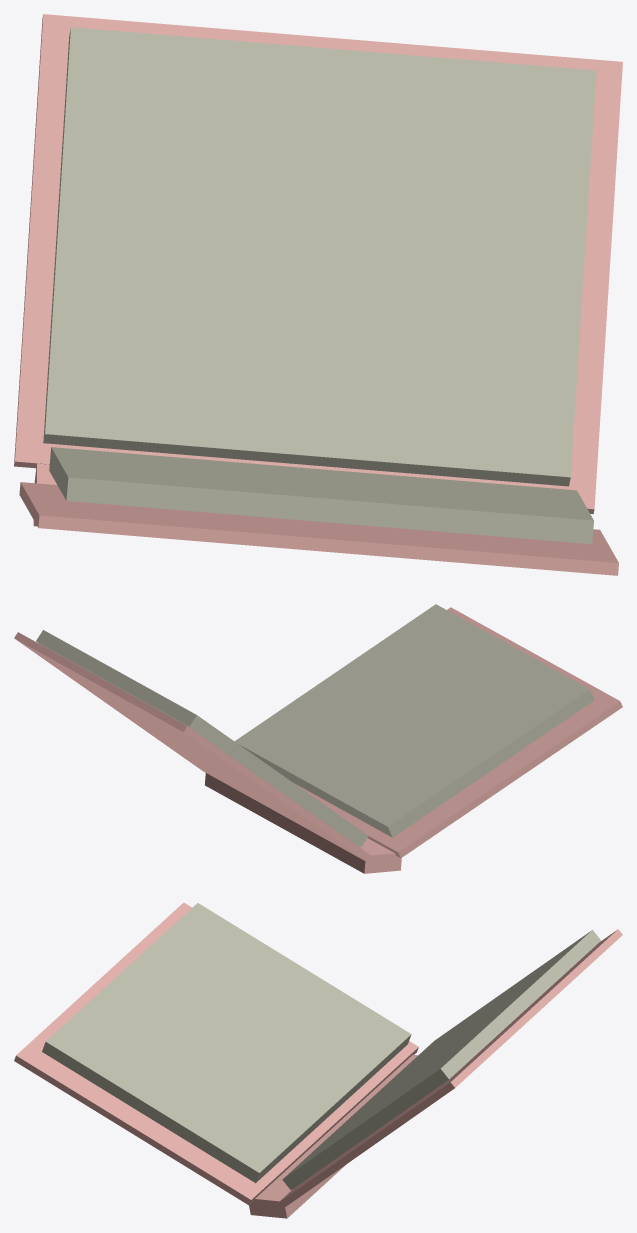
File: Book1.fbx
3 views of the same model, one above another, from view 1: azimuth 30°, elevation 25°; view 2: azimuth 150°, elevation 25°; view 3: azimuth 270°, elevation 25° (orthographic). The views are drawn at different scales.
Visible parts, largest first — view 1: Book1; view 2: Book1; view 3: Book1.
Boxes of the visible parts, left/top/right/bottom form: Book1: left=14, top=14, right=622, bottom=575; Book1: left=14, top=604, right=622, bottom=873; Book1: left=14, top=902, right=622, bottom=1218.
Size of the model in its own units: 5.48 by 2.45 by 6.05.
